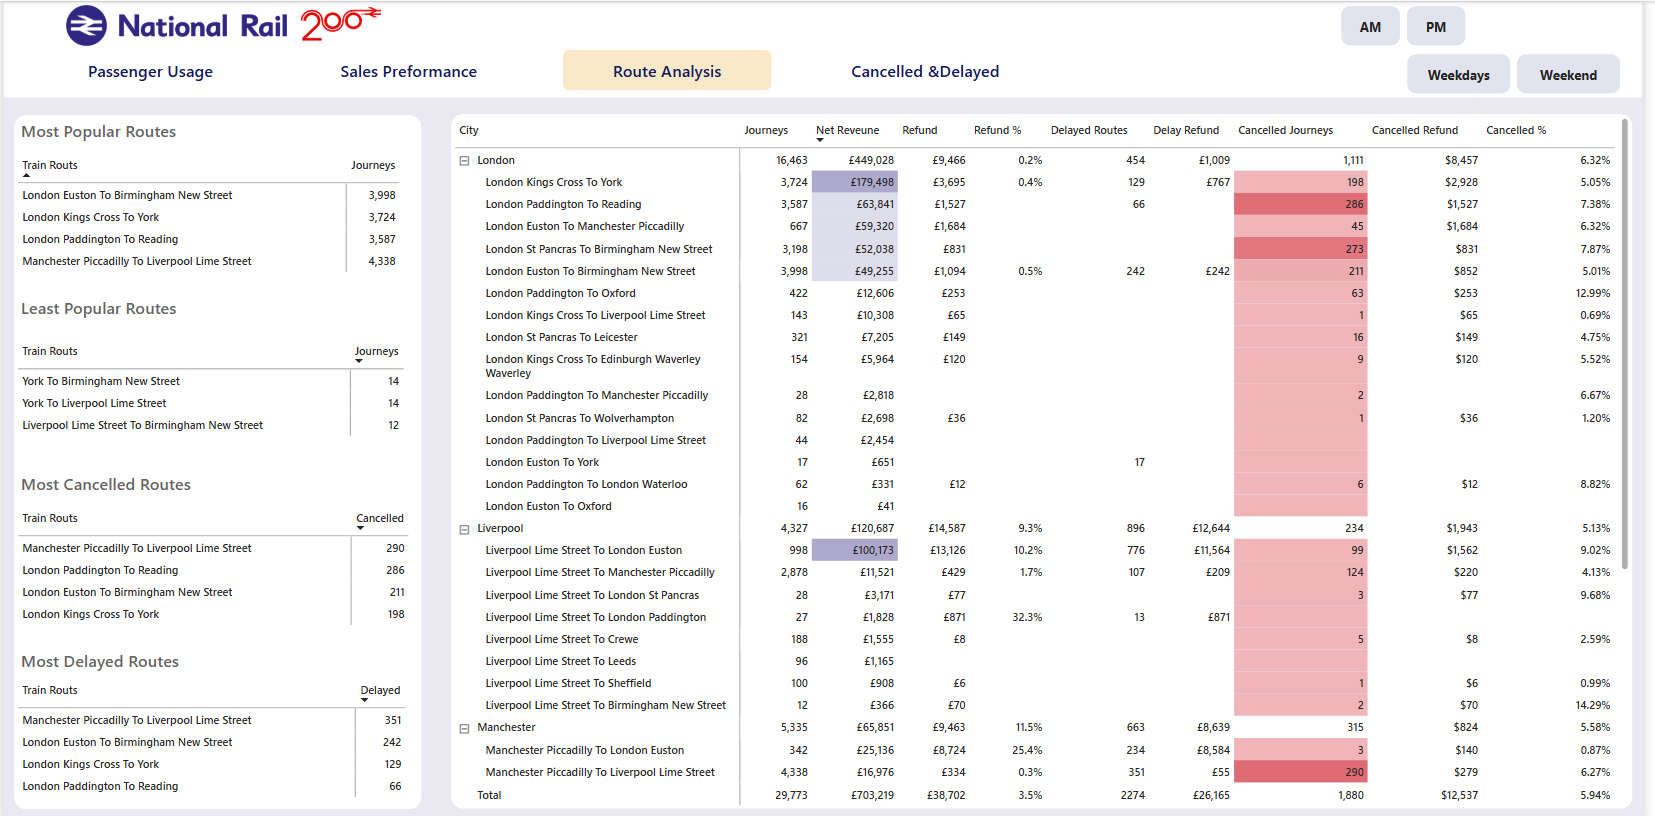

The dashboard page shown, as its layout file describes it:
{"tool":"powerbi","page":{"name":"Route Analysis","canvas":[2000,1000],"ordinal":3},"visuals":[{"type":"shape","box":[13.1,138.5,497.1,846.9],"z":0},{"type":"shape","box":[546.3,137.8,1441.5,847.6],"z":1000},{"type":"shape","box":[0,0,2000,118.8],"z":2000},{"type":"image","box":[50,0,437.1,60],"z":3000},{"type":"advancedSlicerVisual","fields":{"Values":["AM & PM.AM & PM"]},"box":[1626.8,1.2,163.4,58.5],"z":4000},{"type":"advancedSlicerVisual","fields":{"Values":["calendar.WeekType"]},"box":[1707.3,59.8,270.7,58.5],"z":5000},{"type":"pivotTable","fields":{"Rows":["railway.City","railway.Train Routs"],"Values":["_measure.Actual Journeys","_measure.Net Reveune","_measure.Refund","_measure.Refund %","_measure.Delayed Routes","_measure.Delay Refund","_measure.Cancelled Journeys","_measure.Cancelled Refund","_measure.Cancelled %"]},"box":[546.3,137.8,1441.5,847.6],"z":6000},{"type":"pivotTable","fields":{"Rows":["railway.Train Routs"],"Values":["_measure.Actual Journeys"]},"box":[13.1,180.8,498.5,163.3],"z":7000},{"type":"textbox","title":"Most Popular Routes","box":[17.5,144.3,409.6,55.4],"z":8000},{"type":"textbox","title":"Least Popular Routes","box":[17.5,360.1,290.1,36.4],"z":9000},{"type":"pivotTable","fields":{"Rows":["railway.Train Routs"],"Values":["_measure.Actual Journeys"]},"box":[13.4,407.3,498.8,154.9],"z":10000},{"type":"pivotTable","fields":{"Rows":["railway.Train Routs"],"Values":["_measure.Cancelled Journeys"]},"box":[13.4,611,498.8,164.6],"z":11000},{"type":"textbox","title":"Most Cancelled Routes ","box":[17.1,574.4,340.2,36.6],"z":12000},{"type":"pivotTable","fields":{"Rows":["railway.Train Routs"],"Values":["_measure.Delayed Routes"]},"box":[13.4,821.2,498.7,164.6],"z":13000},{"type":"textbox","title":"Most Delayed Routes","box":[17.2,790.4,290.4,61.3],"z":14000},{"type":"pageNavigator","box":[52.5,59.8,1201.2,49.6],"z":15000}]}

Visuals, with their boxes in screenshot pixels (x1, y1, x2, y2), scaled from the page's 2000x1000 canvas onto the 1655x816 screenshot:
shape: [11,113,422,804]
shape: [452,112,1645,804]
shape: [0,0,1654,97]
image: [41,0,403,49]
advancedSlicerVisual - AM & PM.AM & PM: [1346,1,1481,49]
advancedSlicerVisual - calendar.WeekType: [1413,49,1637,97]
pivotTable - railway.City x railway.Train Routs: [452,112,1645,804]
pivotTable - railway.Train Routs x _measure.Actual Journeys: [11,148,423,281]
"Most Popular Routes" textbox: [14,118,353,163]
"Least Popular Routes" textbox: [14,294,255,324]
pivotTable - railway.Train Routs x _measure.Actual Journeys: [11,332,424,459]
pivotTable - railway.Train Routs x _measure.Cancelled Journeys: [11,499,424,633]
"Most Cancelled Routes " textbox: [14,469,296,499]
pivotTable - railway.Train Routs x _measure.Delayed Routes: [11,670,424,804]
"Most Delayed Routes" textbox: [14,645,255,695]
pageNavigator: [43,49,1037,89]
